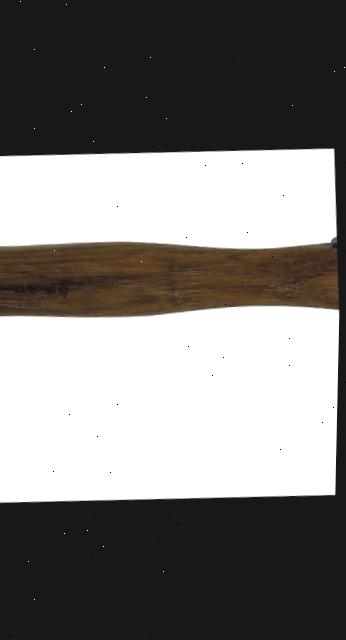hammer: (0, 146, 343, 465)
